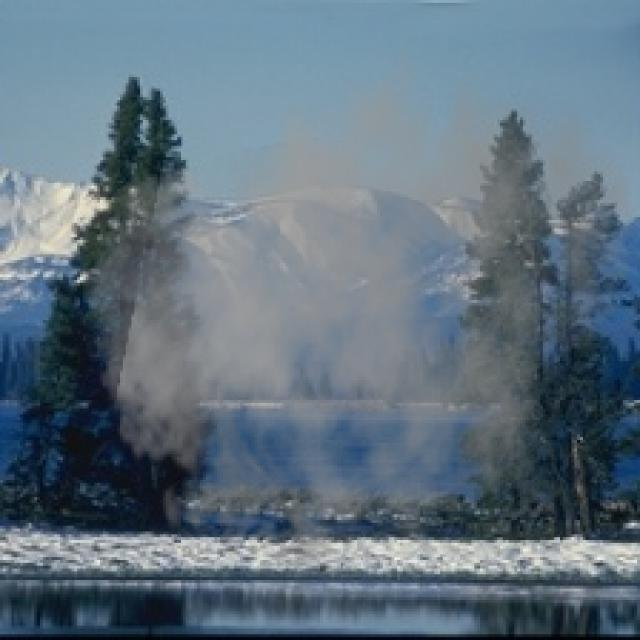smoke: (74, 26, 637, 594)
